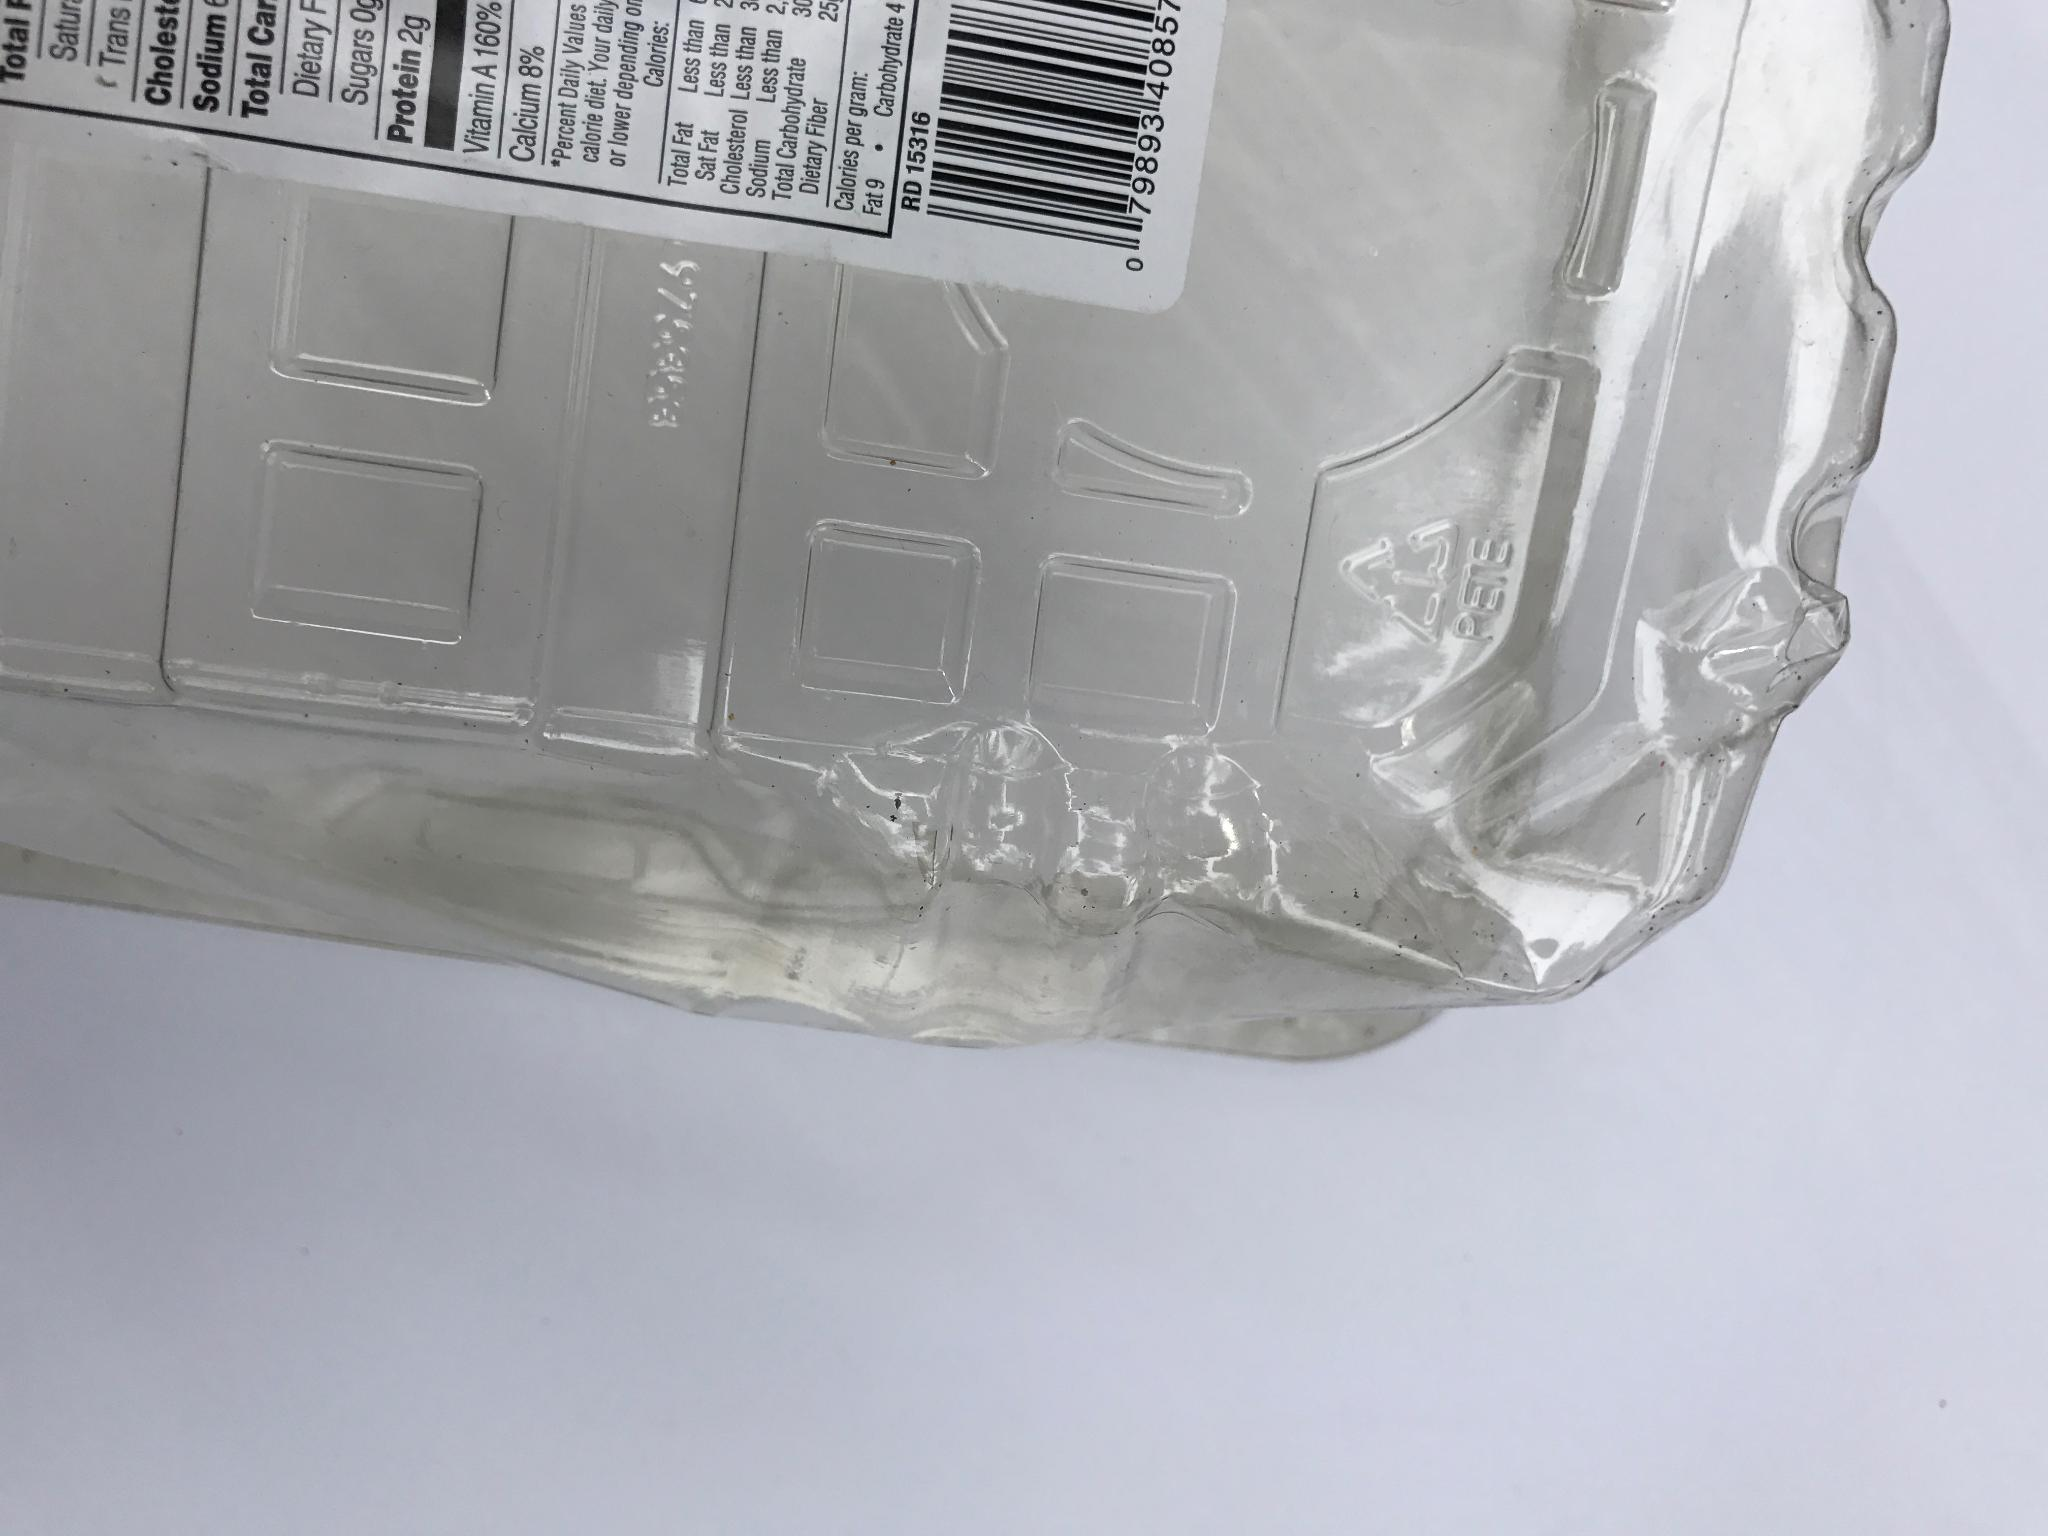Plastic: (0, 0, 1958, 1075)
